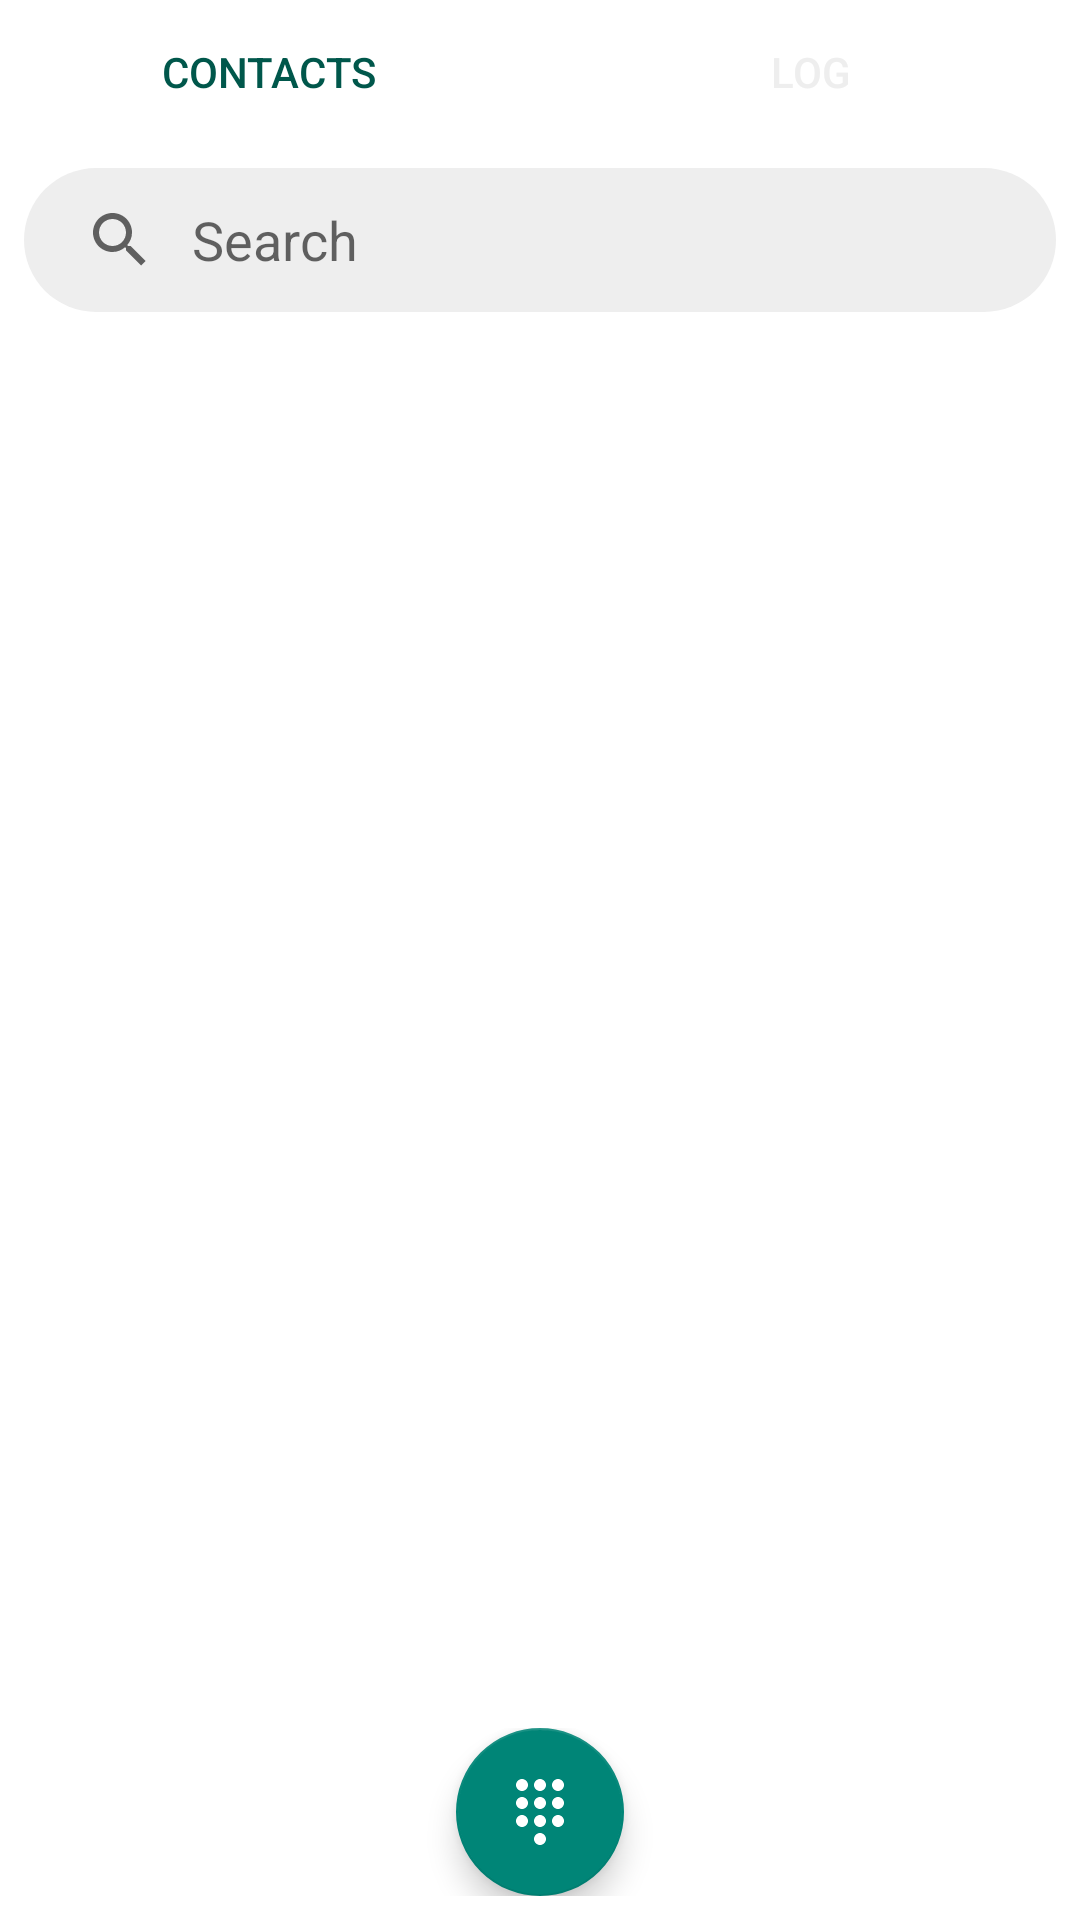

Icons on this 1080x1920 Android screen, each with its box as (x1, y1, x2, y2):
dialpad: (456, 1728, 624, 1896)
